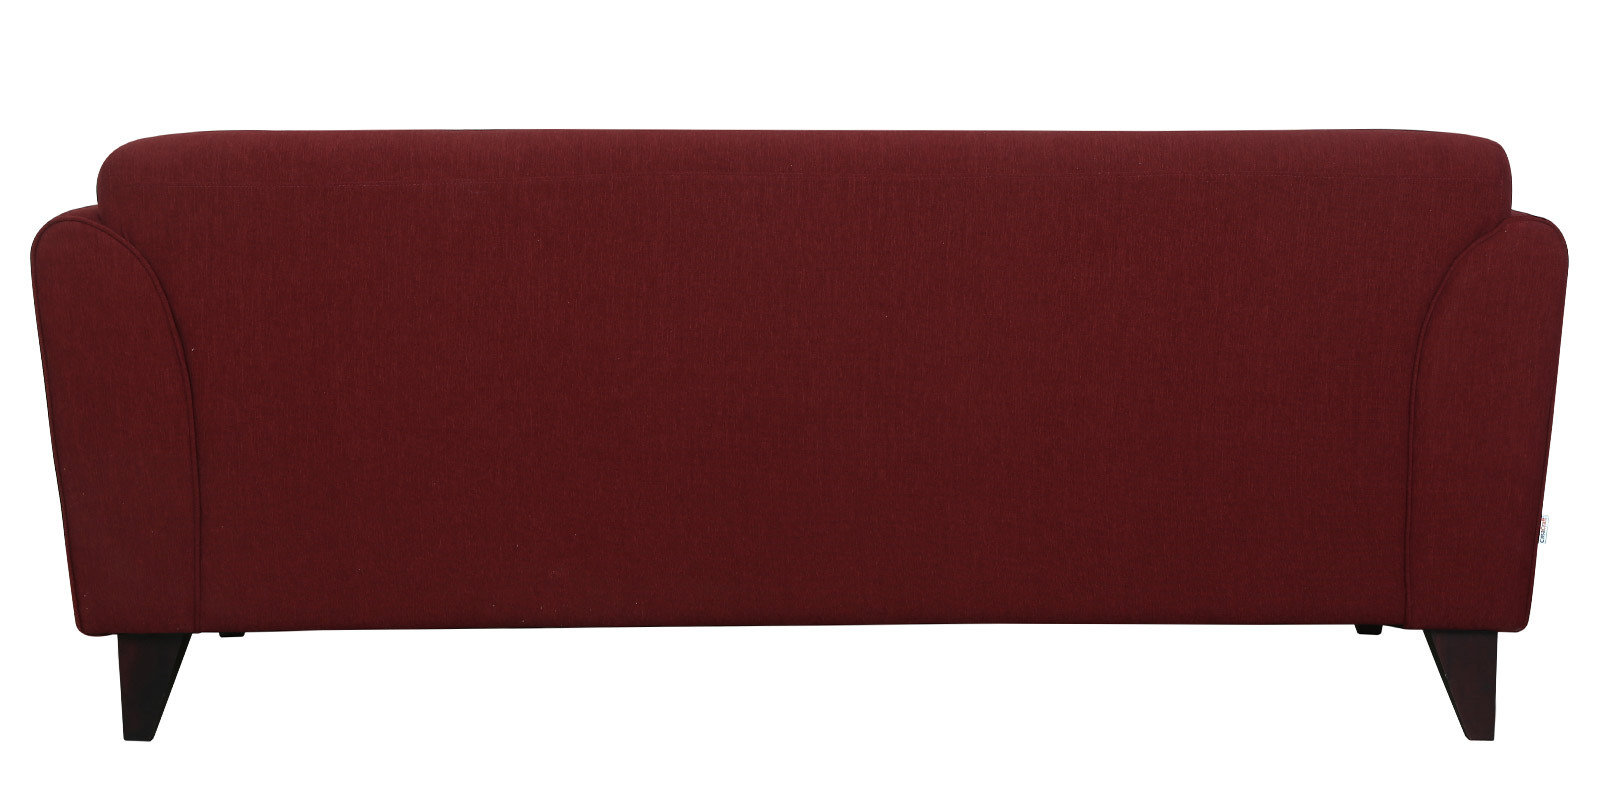Belem Three Seater Sofa in Garnet Red Color by CasaCraft: (19, 122, 1581, 669)
